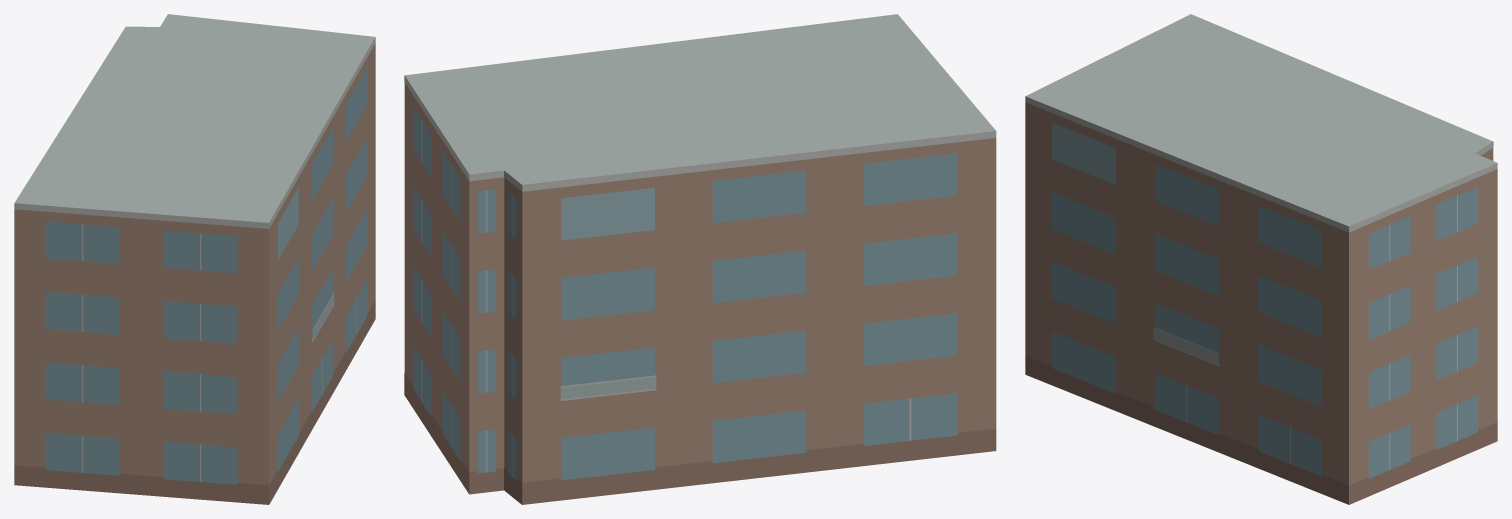
File: survey-upis-32609497.glb
3 views of the same model, side by side, from view 1: azimuth 30°, elevation 25°; view 2: azimuth 150°, elevation 25°; view 3: azimuth 270°, elevation 25° (orthographic). The views are drawn at different scales.
Visible parts, largest first — view 1: survey-upis-32609497.tmp; view 2: survey-upis-32609497.tmp; view 3: survey-upis-32609497.tmp.
Part boxes in pixels (left/top/right/bottom): survey-upis-32609497.tmp: left=14, top=14, right=375, bottom=504; survey-upis-32609497.tmp: left=404, top=14, right=996, bottom=504; survey-upis-32609497.tmp: left=1025, top=14, right=1497, bottom=504.
Bounding box in the file's own units: 18.69 × 11.4 × 17.55.
